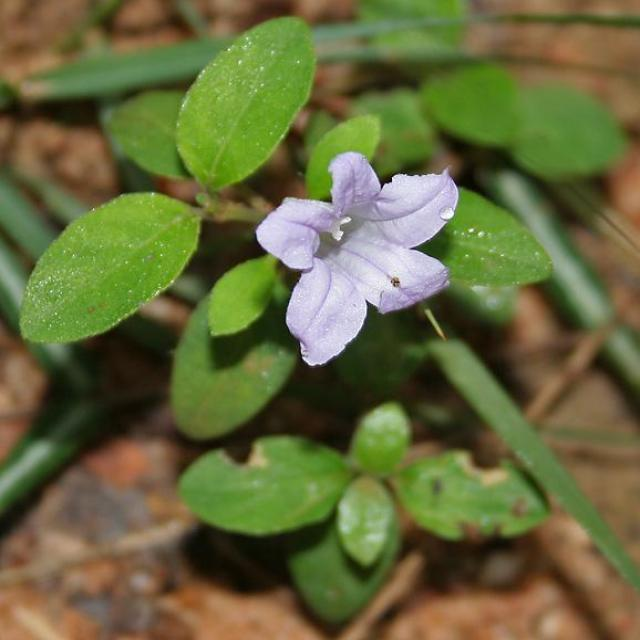organic waste: (256, 140, 487, 349)
